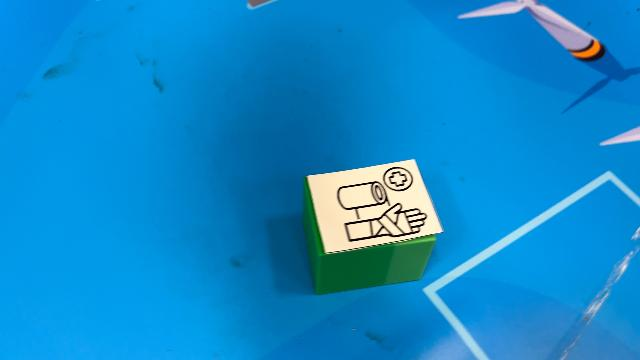bandage: (302, 158, 444, 294)
